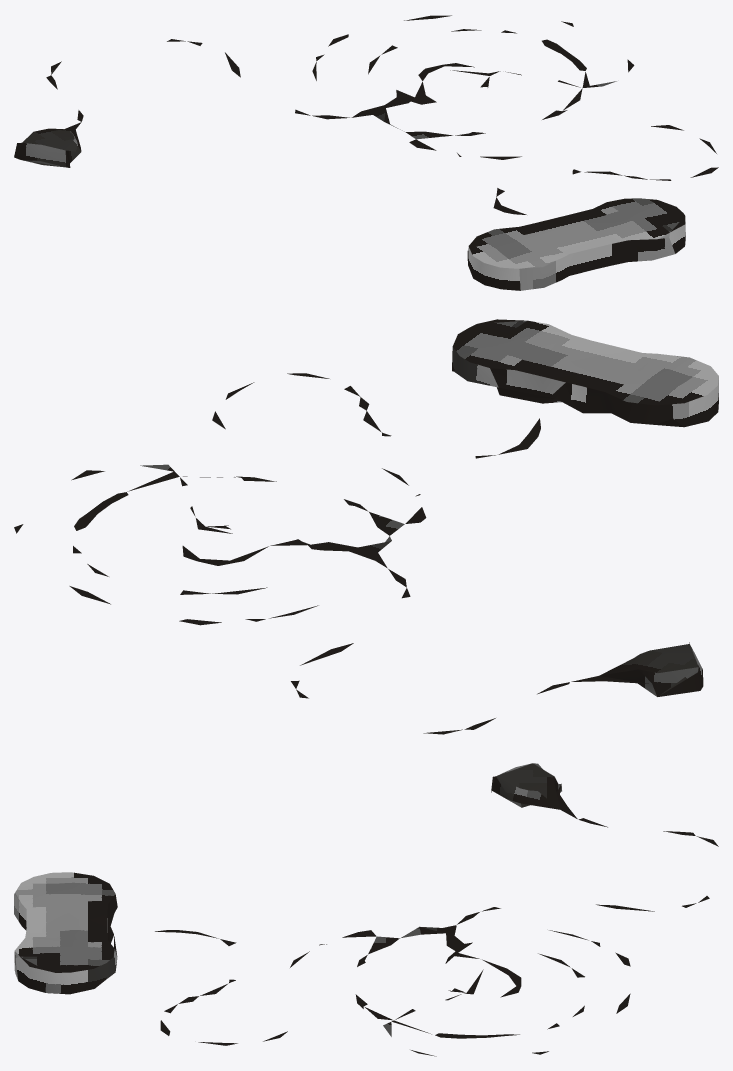
The model's file is gamepad.glb.
3 renders of one model, top to bottom at view 1: azimuth 30°, elevation 25°; view 2: azimuth 150°, elevation 25°; view 3: azimuth 270°, elevation 25°, orthographic. The views are drawn at different scales.
Visible parts, largest first — view 1: mesh; view 2: mesh; view 3: mesh.
Part boxes in pixels (<box>): mesh: <box>14,15,718,290</box>; mesh: <box>14,319,718,734</box>; mesh: <box>14,763,718,1056</box>.
Bounding box in the file's own units: 0.4942 × 0.02 × 0.5309.
1 material, 1 textured.
